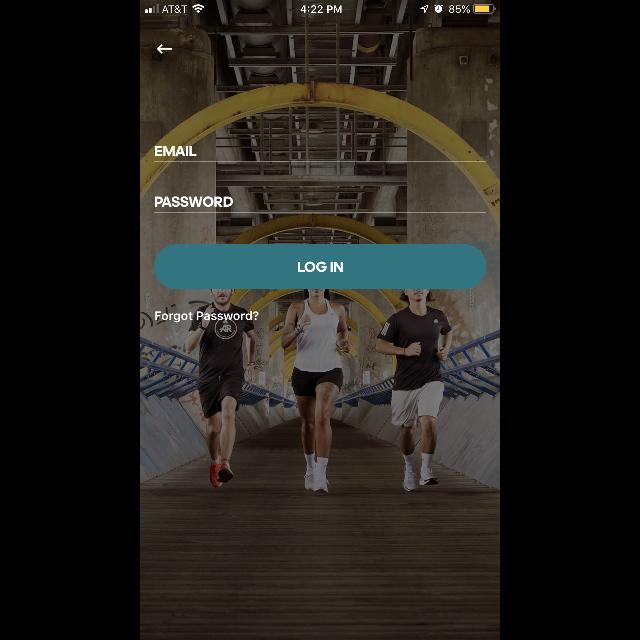backgroundimage: (140, 1, 500, 640)
icon: (158, 44, 172, 54)
input: (154, 196, 486, 214), (154, 146, 486, 162)
text: (155, 311, 259, 323), (155, 196, 233, 208), (155, 146, 197, 156)
textbutton: (155, 244, 487, 290)
uppertaskbar: (140, 0, 500, 14)
